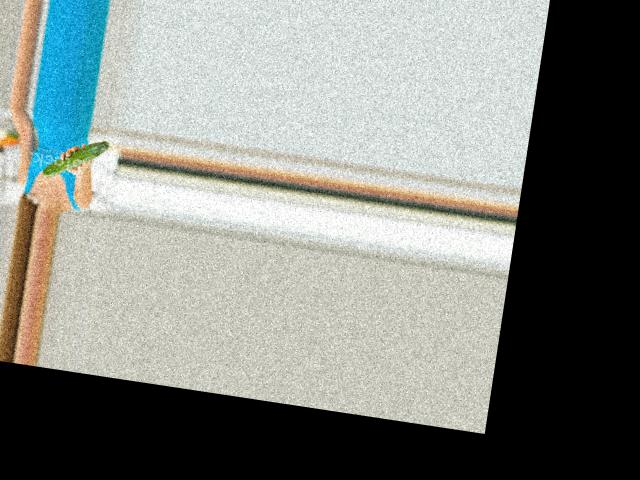cucumber: (41, 132, 109, 184)
